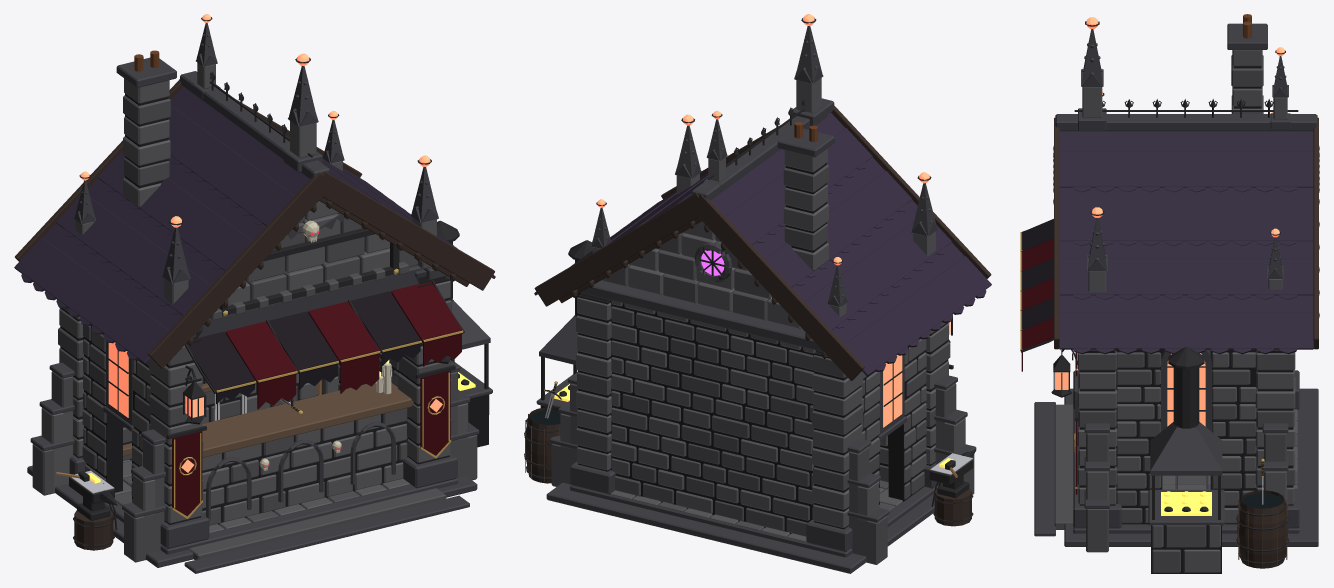
File: wc-shop-weapons.glb
3 views of the same model, side by side, from view 1: azimuth 30°, elevation 25°; view 2: azimuth 150°, elevation 25°; view 3: azimuth 270°, elevation 25° (orthographic). The views are drawn at different scales.
Visible parts, largest first — view 1: Banner35__BlackIron__39_39_41; view 2: Banner35__BlackIron__39_39_41; view 3: Banner35__BlackIron__39_39_41.
Part boxes in pixels (<box>): Banner35__BlackIron__39_39_41: <box>14,14,495,573</box>; Banner35__BlackIron__39_39_41: <box>524,14,991,573</box>; Banner35__BlackIron__39_39_41: <box>1020,14,1319,573</box>.
Bounding box in the file's own units: 1.89 × 2 × 1.2.
